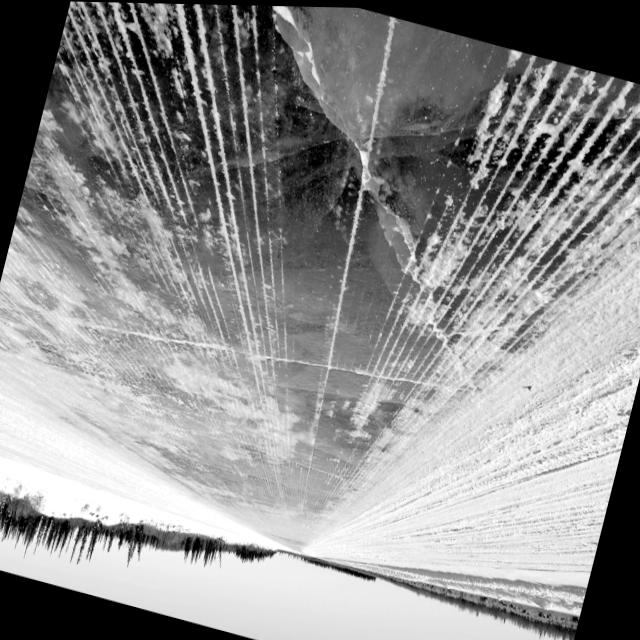pathole: (136, 4, 580, 417)
